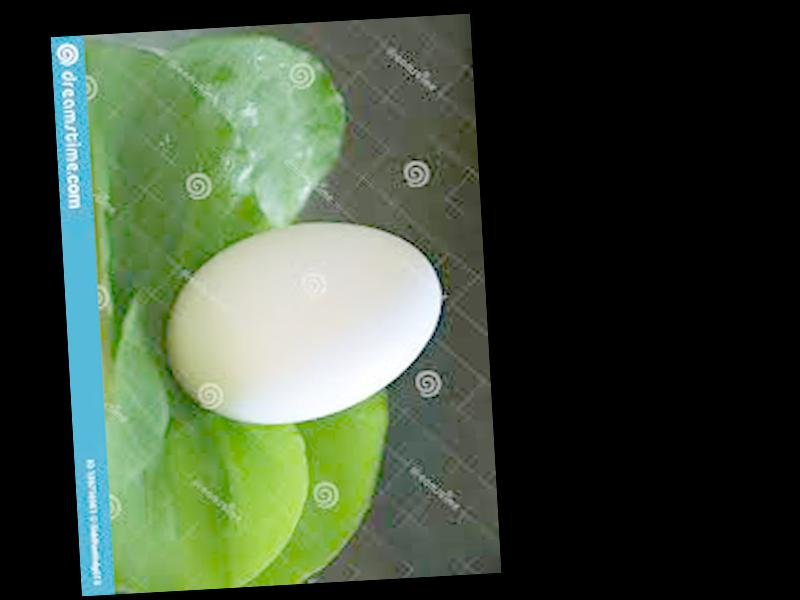Eggs: (162, 215, 448, 430)
